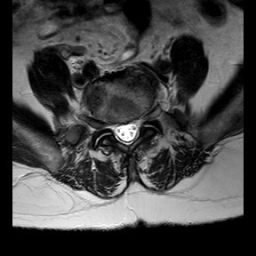CCS_normal: (122, 112, 131, 152)
LFS_normal: (140, 98, 148, 133)
LLS_normal: (131, 111, 140, 144)
RFS_stenosis: (103, 110, 112, 139)
RLS_normal: (112, 112, 122, 148)
